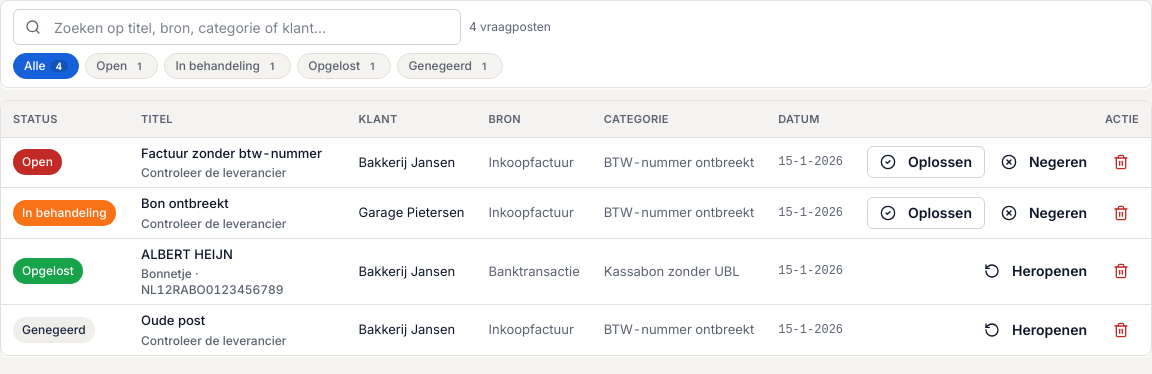
Test: Vraagposten overzicht › filtert op status Genegeerd
Step 1. Click the button "Genegeerd 1" → (450, 66), box 397,53 -> 503,79
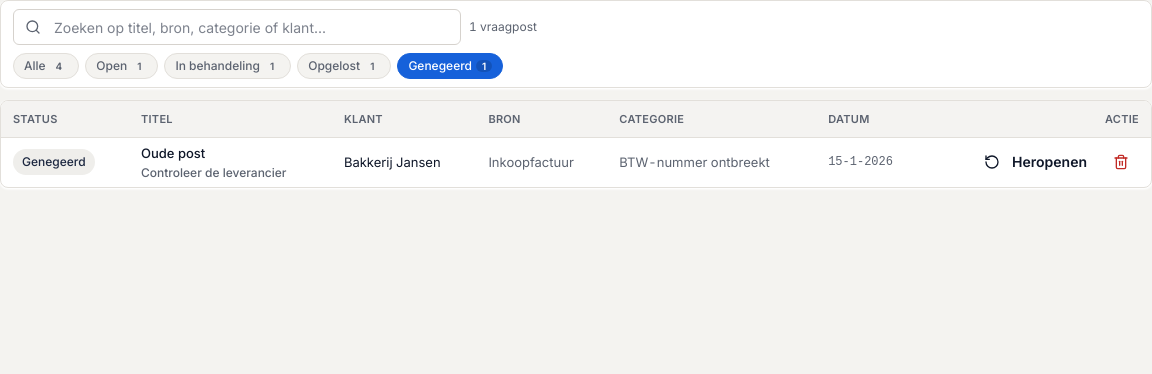
Expected: the text "Oude post" is shown, 141,144 -> 205,160
Result: the number of rows is 2 at 1,101 -> 1151,137; 1,137 -> 1151,187
